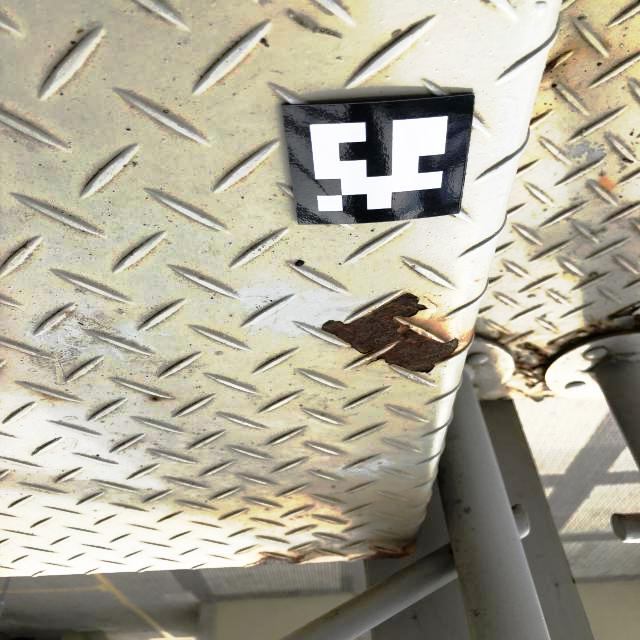Corrosion: (321, 293, 459, 373), (515, 307, 640, 391), (360, 543, 416, 562), (250, 553, 307, 567), (542, 55, 560, 76)
